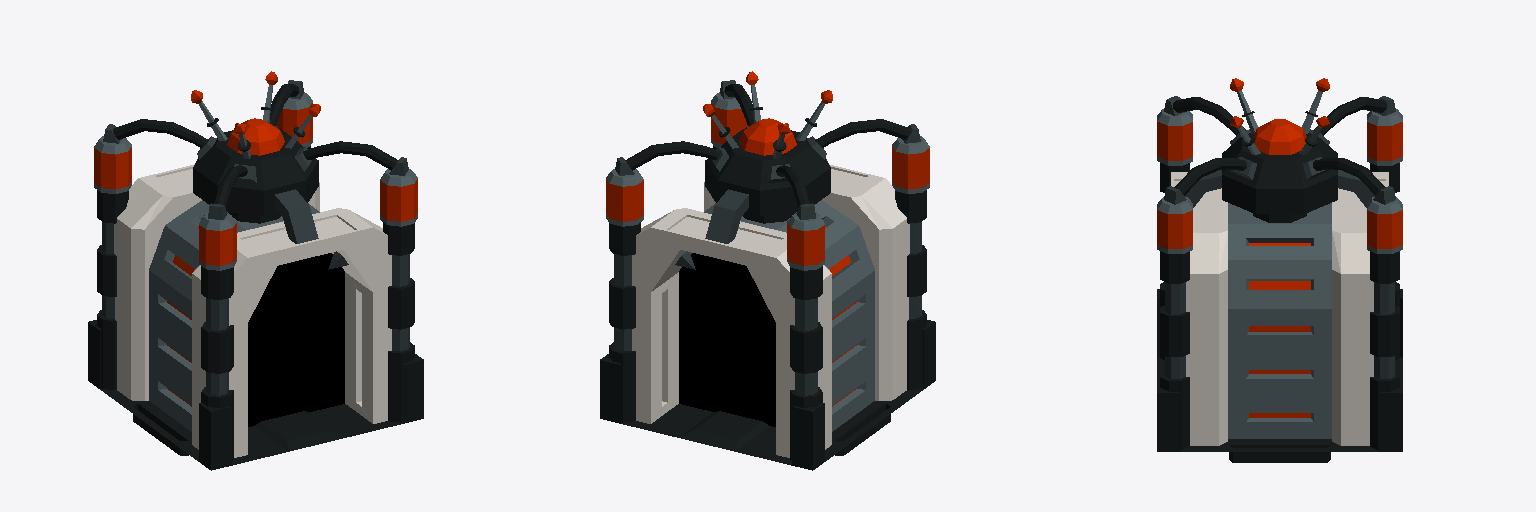
3 views of the same model, side by side, from view 1: azimuth 30°, elevation 25°; view 2: azimuth 150°, elevation 25°; view 3: azimuth 270°, elevation 25° (orthographic).
Visible parts, largest first — view 1: Plane.006_Plane.005; view 2: Plane.006_Plane.005; view 3: Plane.006_Plane.005.
Part boxes in pixels (x1,y1,x2,y2): Plane.006_Plane.005: (88, 71, 423, 470); Plane.006_Plane.005: (600, 71, 935, 470); Plane.006_Plane.005: (1157, 78, 1402, 462).
Bounding box in the file's own units: 2 × 2.84 × 2.
Materials: 1 (1 with a texture image).